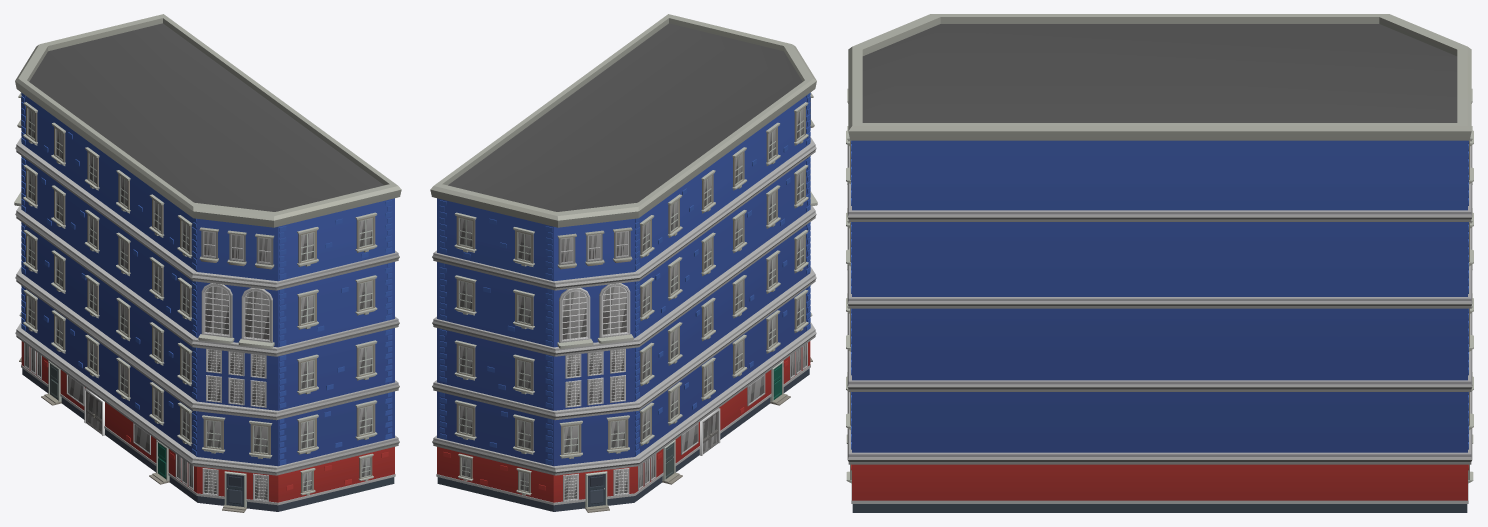
File: Building_25_5_B.fbx
The picture shows the model from 3 angles, left to right: view 1: azimuth 30°, elevation 25°; view 2: azimuth 150°, elevation 25°; view 3: azimuth 270°, elevation 25°; orthographic projection. The views are drawn at different scales.
Visible parts, largest first — view 1: Building_25_5_B; view 2: Building_25_5_B; view 3: Building_25_5_B.
Boxes of the visible parts, left/top/right/bottom form: Building_25_5_B: left=14, top=14, right=401, bottom=512; Building_25_5_B: left=430, top=14, right=817, bottom=512; Building_25_5_B: left=846, top=14, right=1473, bottom=512.
Bounding box in the file's own units: 1291 × 2014 × 2941.
